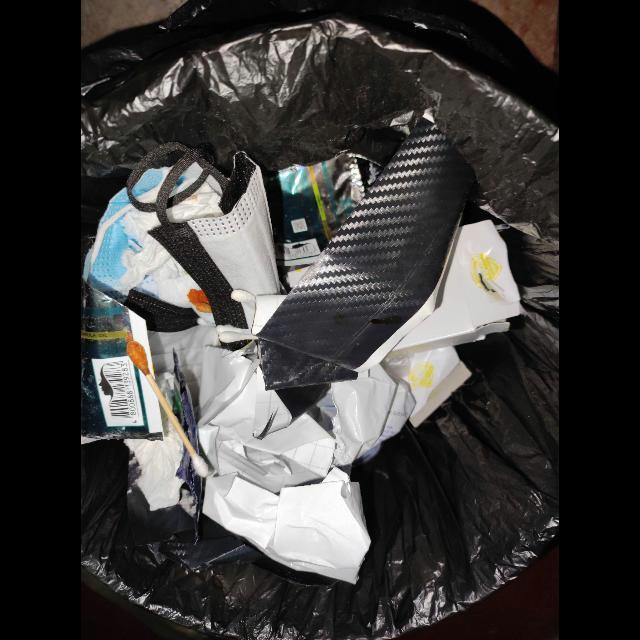cardboard: (389, 217, 524, 362), (381, 346, 471, 426)
food_wrapper: (281, 149, 371, 268)
paper: (153, 324, 372, 588), (330, 366, 415, 467), (126, 419, 189, 508), (177, 479, 185, 482)
plastic_container: (82, 279, 153, 436)
